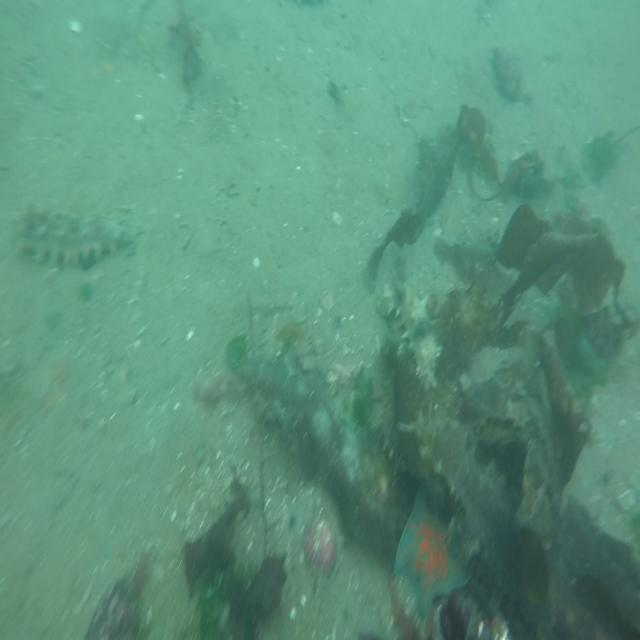holothurian: (13, 200, 134, 270), (381, 282, 443, 386)
starfish: (395, 469, 473, 608)
